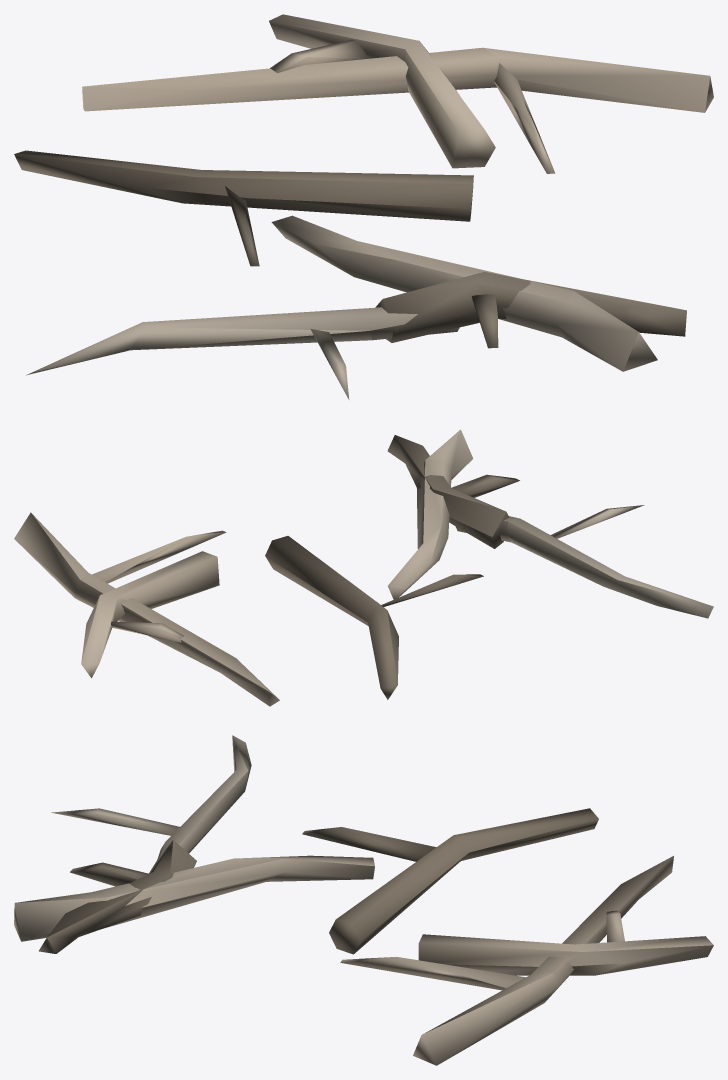
The model's file is shore_gc_twigs_b_lod1.glb.
The picture shows the model from 3 angles, top to bottom: view 1: azimuth 30°, elevation 25°; view 2: azimuth 150°, elevation 25°; view 3: azimuth 270°, elevation 25°; orthographic projection. The views are drawn at different scales.
Visible parts, largest first — view 1: shore_gc_twigs_b.001; view 2: shore_gc_twigs_b.001; view 3: shore_gc_twigs_b.001.
Part boxes in pixels (x1,y1,x2,y2): shore_gc_twigs_b.001: (14, 14, 713, 399); shore_gc_twigs_b.001: (14, 429, 713, 706); shore_gc_twigs_b.001: (14, 735, 713, 1065).
Size of the model in its own units: 3.98 by 0.2388 by 3.68.
